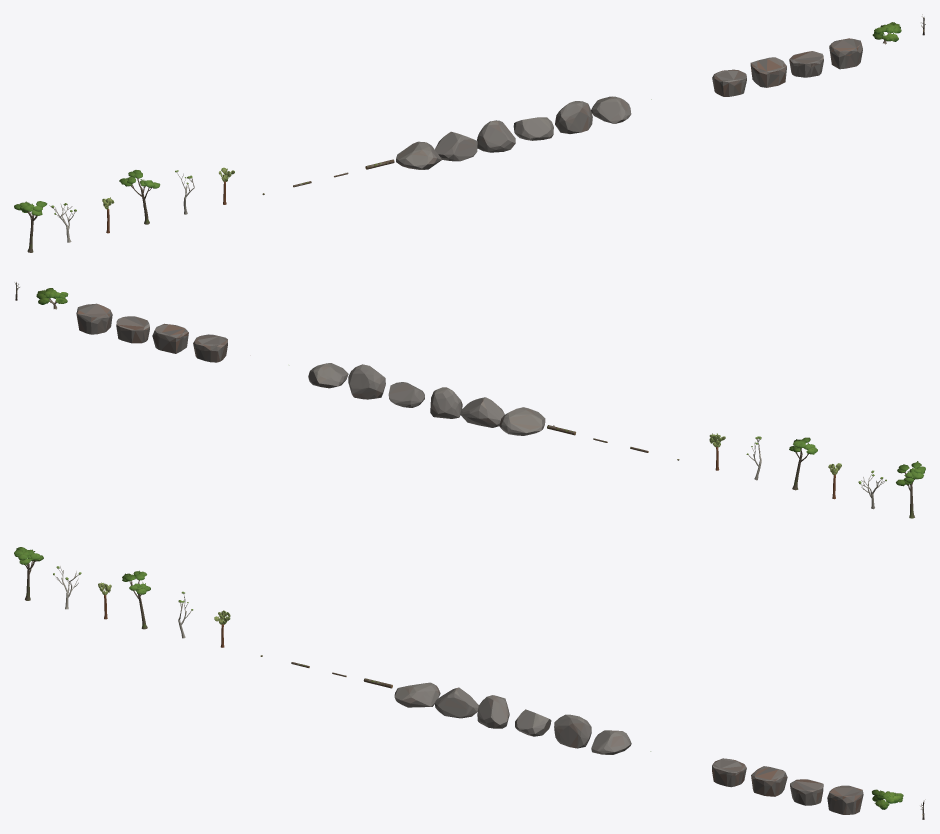
The model's file is props.glb.
3 views of the same model, one above another, from view 1: azimuth 30°, elevation 25°; view 2: azimuth 150°, elevation 25°; view 3: azimuth 330°, elevation 25° (orthographic).
Parts seen in each view (by area): view 1: rock_4, rock_2, rock_1, rock_0, slab_1, slab_3, rock_5, rock_3, slab_0, slab_2, scalesia_1; view 2: rock_4, rock_0, rock_1, slab_3, slab_1, rock_2, slab_0, slab_2, rock_5, rock_3, scalesia_0; view 3: rock_4, rock_1, rock_0, slab_3, slab_1, rock_2, slab_0, rock_5, slab_2, rock_3.
Part boxes in pixels (x1,y1,x2,y2): rock_4: (555, 101, 592, 133); rock_2: (477, 120, 515, 152); rock_1: (435, 131, 477, 161); rock_0: (396, 141, 441, 169); slab_1: (750, 57, 786, 87); slab_3: (829, 38, 862, 69); rock_5: (591, 96, 631, 123); rock_3: (513, 117, 553, 140); slab_0: (712, 69, 746, 96); slab_2: (789, 51, 823, 77); scalesia_1: (119, 170, 160, 224); rock_4: (348, 364, 385, 399); rock_0: (499, 407, 545, 435); rock_1: (460, 397, 504, 427); slab_3: (76, 303, 112, 334); slab_1: (152, 323, 188, 353); rock_2: (430, 387, 462, 418); slab_0: (193, 334, 227, 362); slab_2: (116, 316, 149, 343); rock_5: (308, 363, 348, 388); rock_3: (388, 382, 424, 407); scalesia_0: (896, 461, 925, 518); rock_4: (554, 714, 591, 748); rock_1: (434, 687, 478, 718); rock_0: (394, 682, 440, 707); slab_3: (827, 785, 863, 814); slab_1: (751, 766, 787, 796); rock_2: (477, 695, 509, 728); slab_0: (712, 758, 746, 787); rock_5: (591, 730, 631, 754); slab_2: (790, 779, 823, 805); rock_3: (515, 709, 551, 736).
Bounding box in the file's own units: 46.73 × 3.03 × 2.17.
